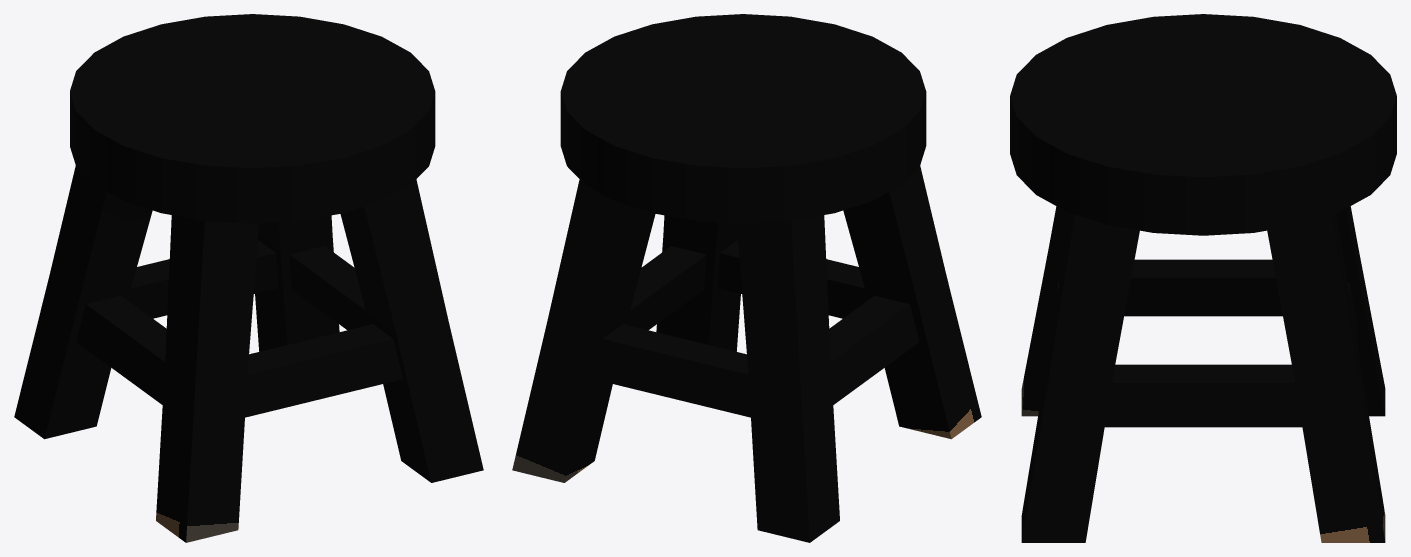
Rendered from chair.FBX.
3 views of the same model, side by side, from view 1: azimuth 30°, elevation 25°; view 2: azimuth 150°, elevation 25°; view 3: azimuth 270°, elevation 25° (orthographic). The views are drawn at different scales.
Visible parts, largest first — view 1: chair; view 2: chair; view 3: chair.
Boxes of the visible parts, x1,y1,x2,y2 form: chair: (14,14,483,542); chair: (512,14,981,542); chair: (1010,14,1396,542).
Size of the model in its own units: 23.42 by 24.87 by 23.42.
